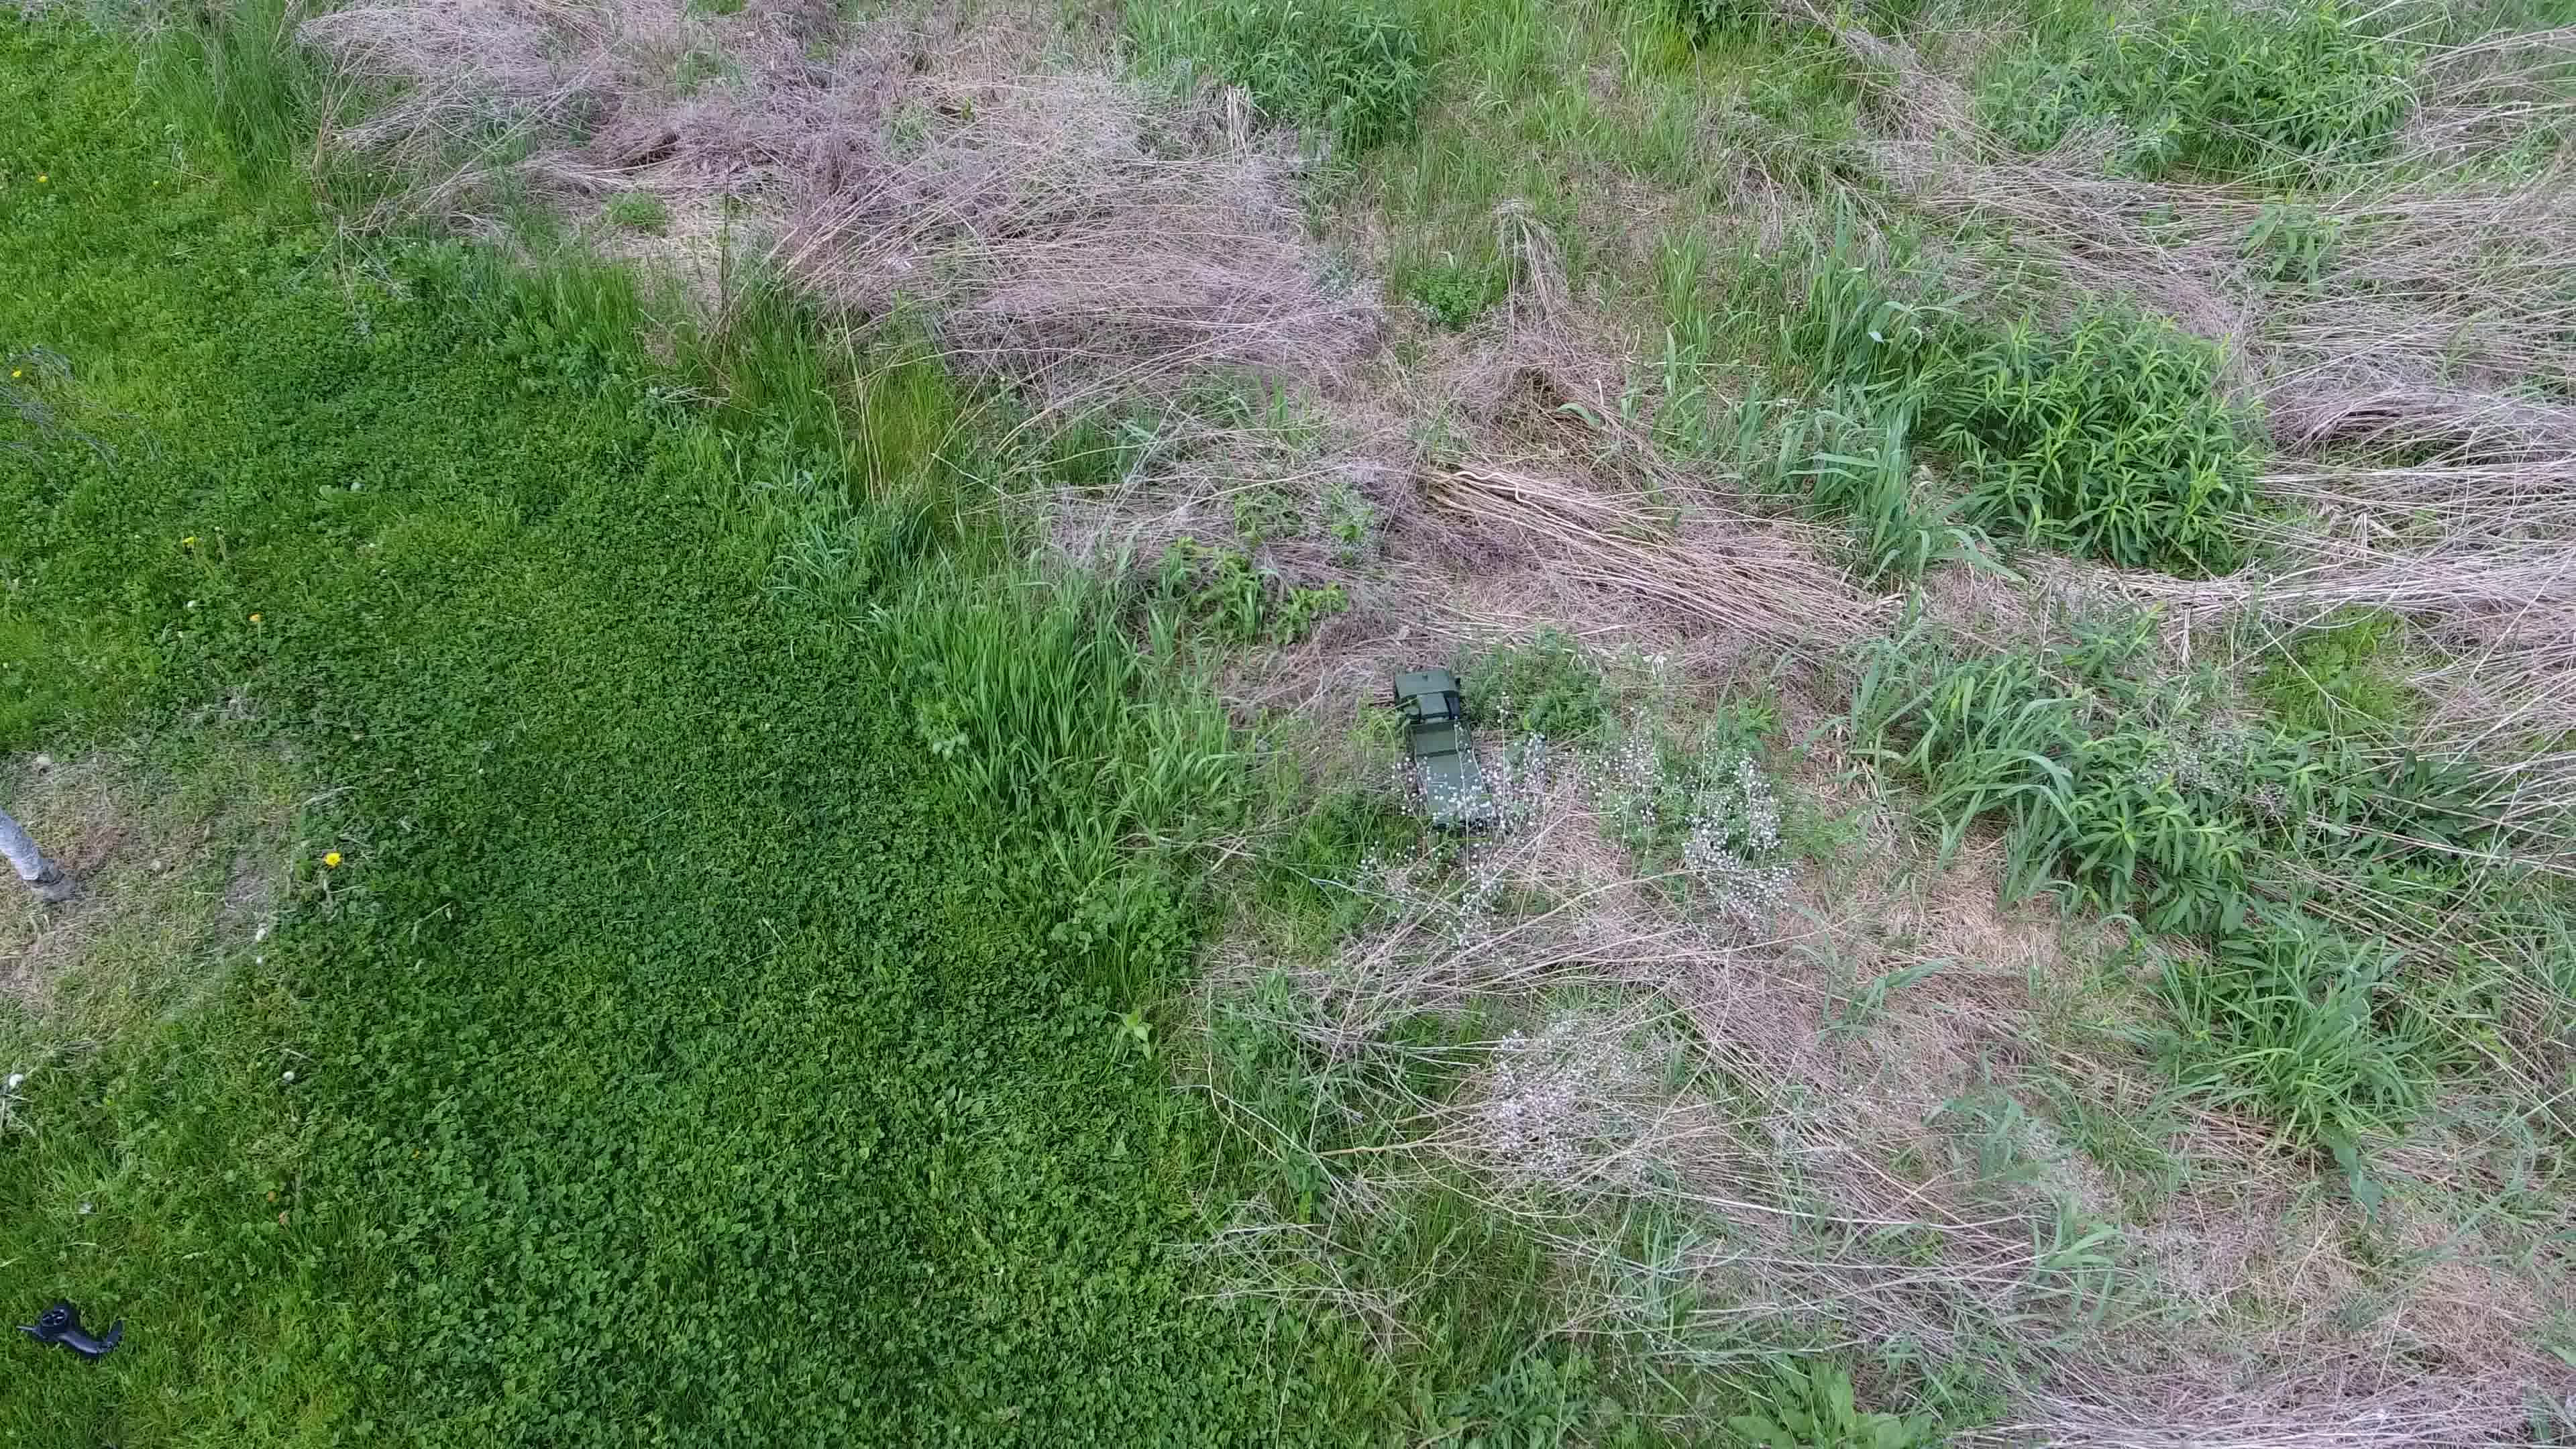transporter9: (1387, 658, 1507, 842)
